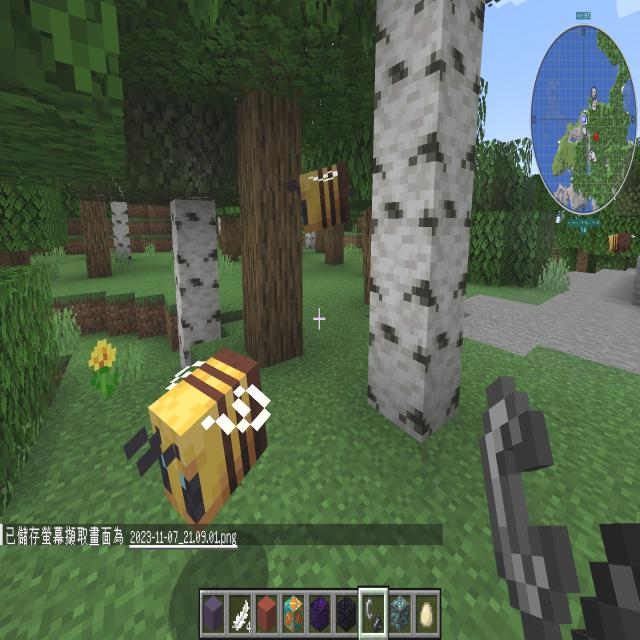bee: (117, 332, 283, 540), (284, 150, 358, 249)
